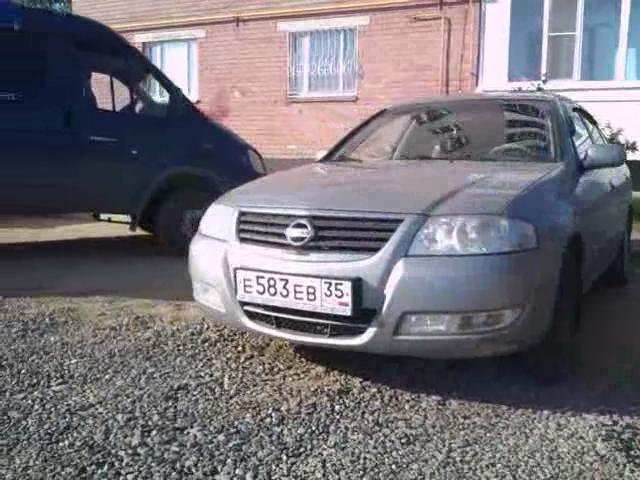car license plate: (232, 265, 355, 317)
